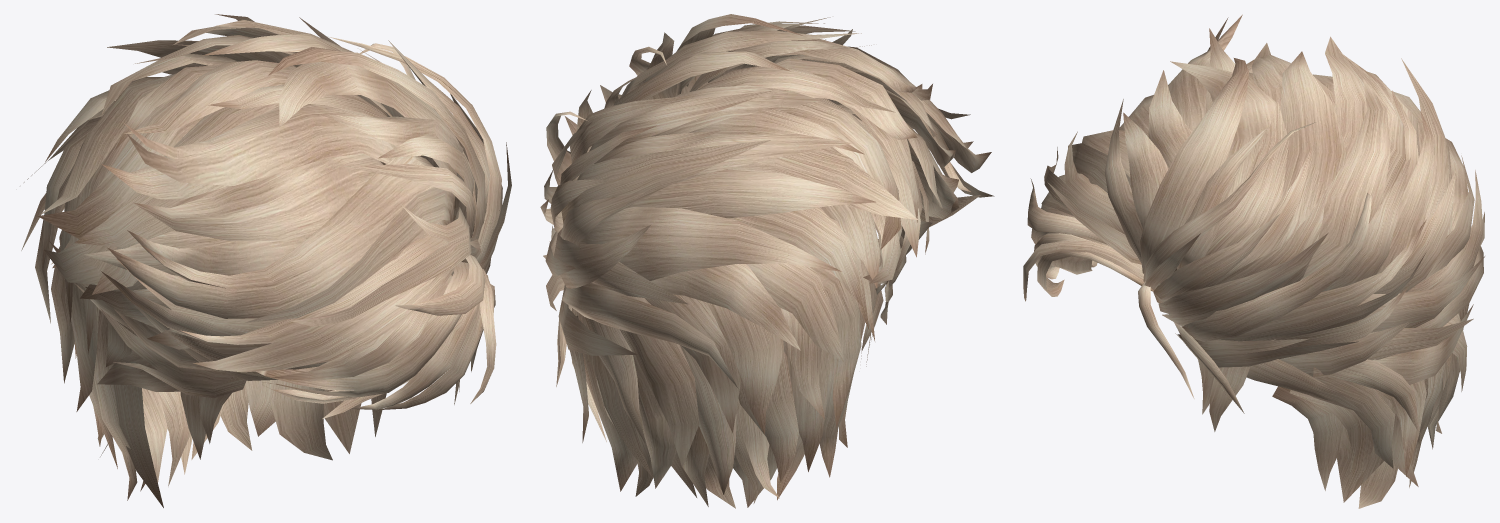
Rendered from manhair1-transformed.glb.
The picture shows the model from 3 angles, left to right: view 1: azimuth 30°, elevation 25°; view 2: azimuth 150°, elevation 25°; view 3: azimuth 270°, elevation 25°; orthographic projection. The views are drawn at different scales.
Visible parts, largest first — view 1: 25; view 2: 25; view 3: 25.
Part boxes in pixels (left/top/right/bottom): 25: left=21, top=14, right=511, bottom=507; 25: left=540, top=14, right=994, bottom=508; 25: left=1023, top=14, right=1484, bottom=508.
Bounding box in the file's own units: 0.4136 × 0.4634 × 0.4809.
1 material, 1 textured.
